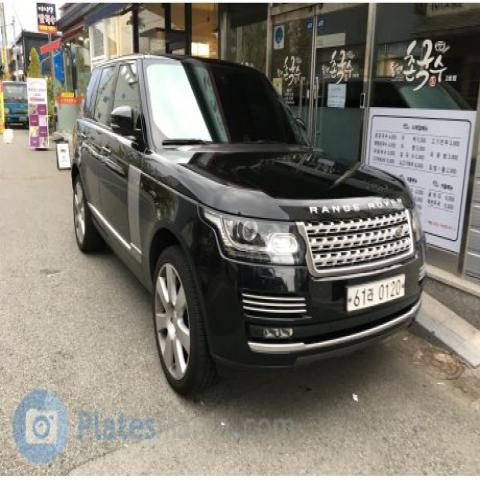LP: (343, 263, 416, 319)
